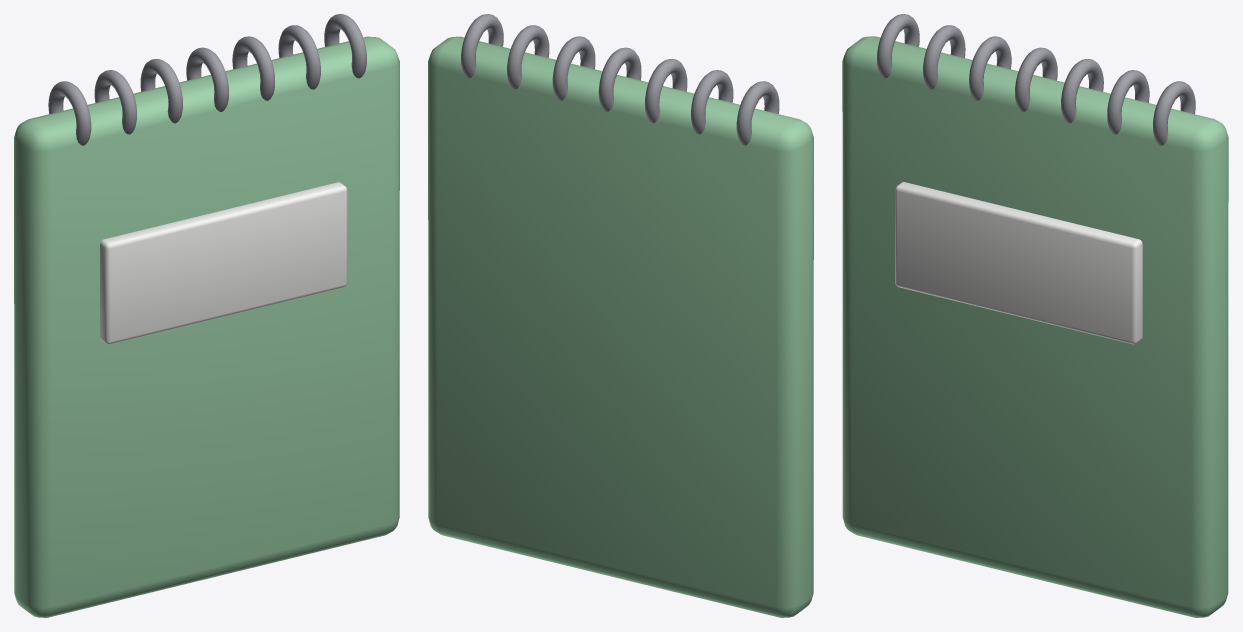
Rendered from articles--sizu.glb.
3 views of the same model, side by side, from view 1: azimuth 30°, elevation 25°; view 2: azimuth 150°, elevation 25°; view 3: azimuth 330°, elevation 25° (orthographic).
Parts seen in each view (by area): view 1: articles--sizu; view 2: articles--sizu; view 3: articles--sizu.
Boxes of the visible parts, x1,y1,x2,y2 form: articles--sizu: (14, 14, 399, 617); articles--sizu: (428, 14, 813, 617); articles--sizu: (842, 14, 1228, 617).
Size of the model in its own units: 0.46 by 0.6182 by 0.083.
